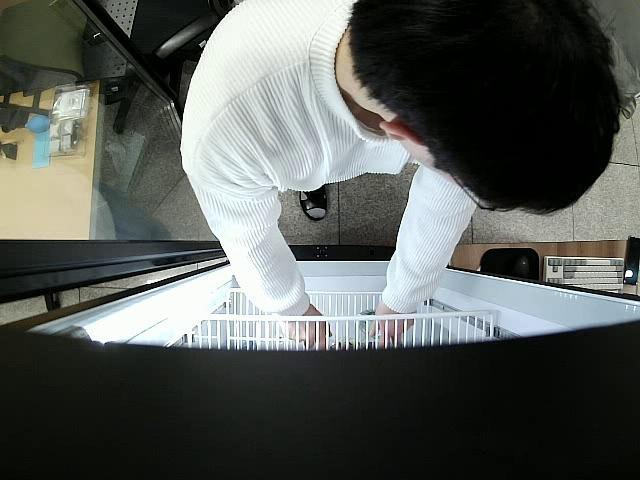18_trevi: (358, 309, 382, 341)
